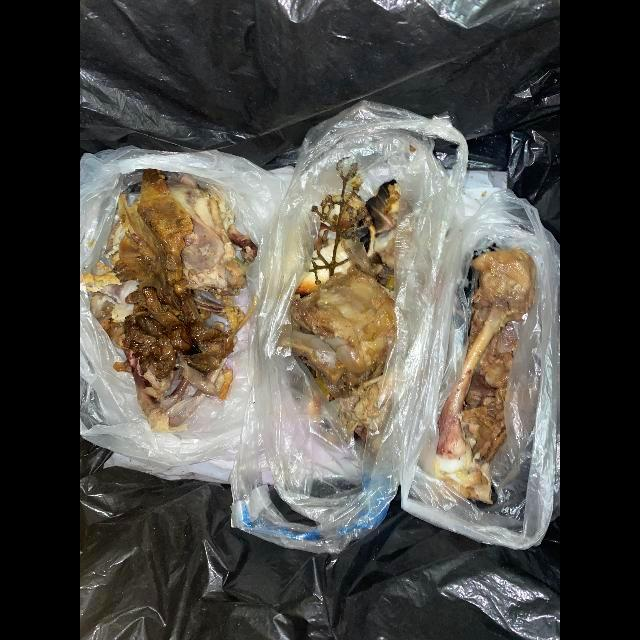food_wrapper: (291, 157, 401, 452)
left_over_food: (83, 169, 259, 427), (425, 249, 536, 507)
plastic_bag: (229, 103, 476, 558), (402, 170, 560, 551), (80, 148, 292, 316), (80, 310, 250, 484)
